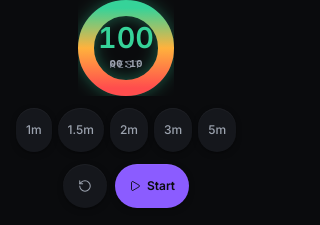
it: RestTimer › starts counting down when start is clicked
This screenshot has width=320, height=225.
Click the button with test id "rest-timer-toggle" at (152, 186), box [115,164,189,208]
Wait 3000 ms
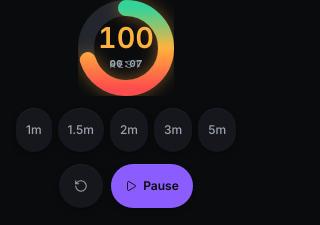
Expected: the button with test id "rest-timer-toggle" reads "Pause", [111,164,193,208]
